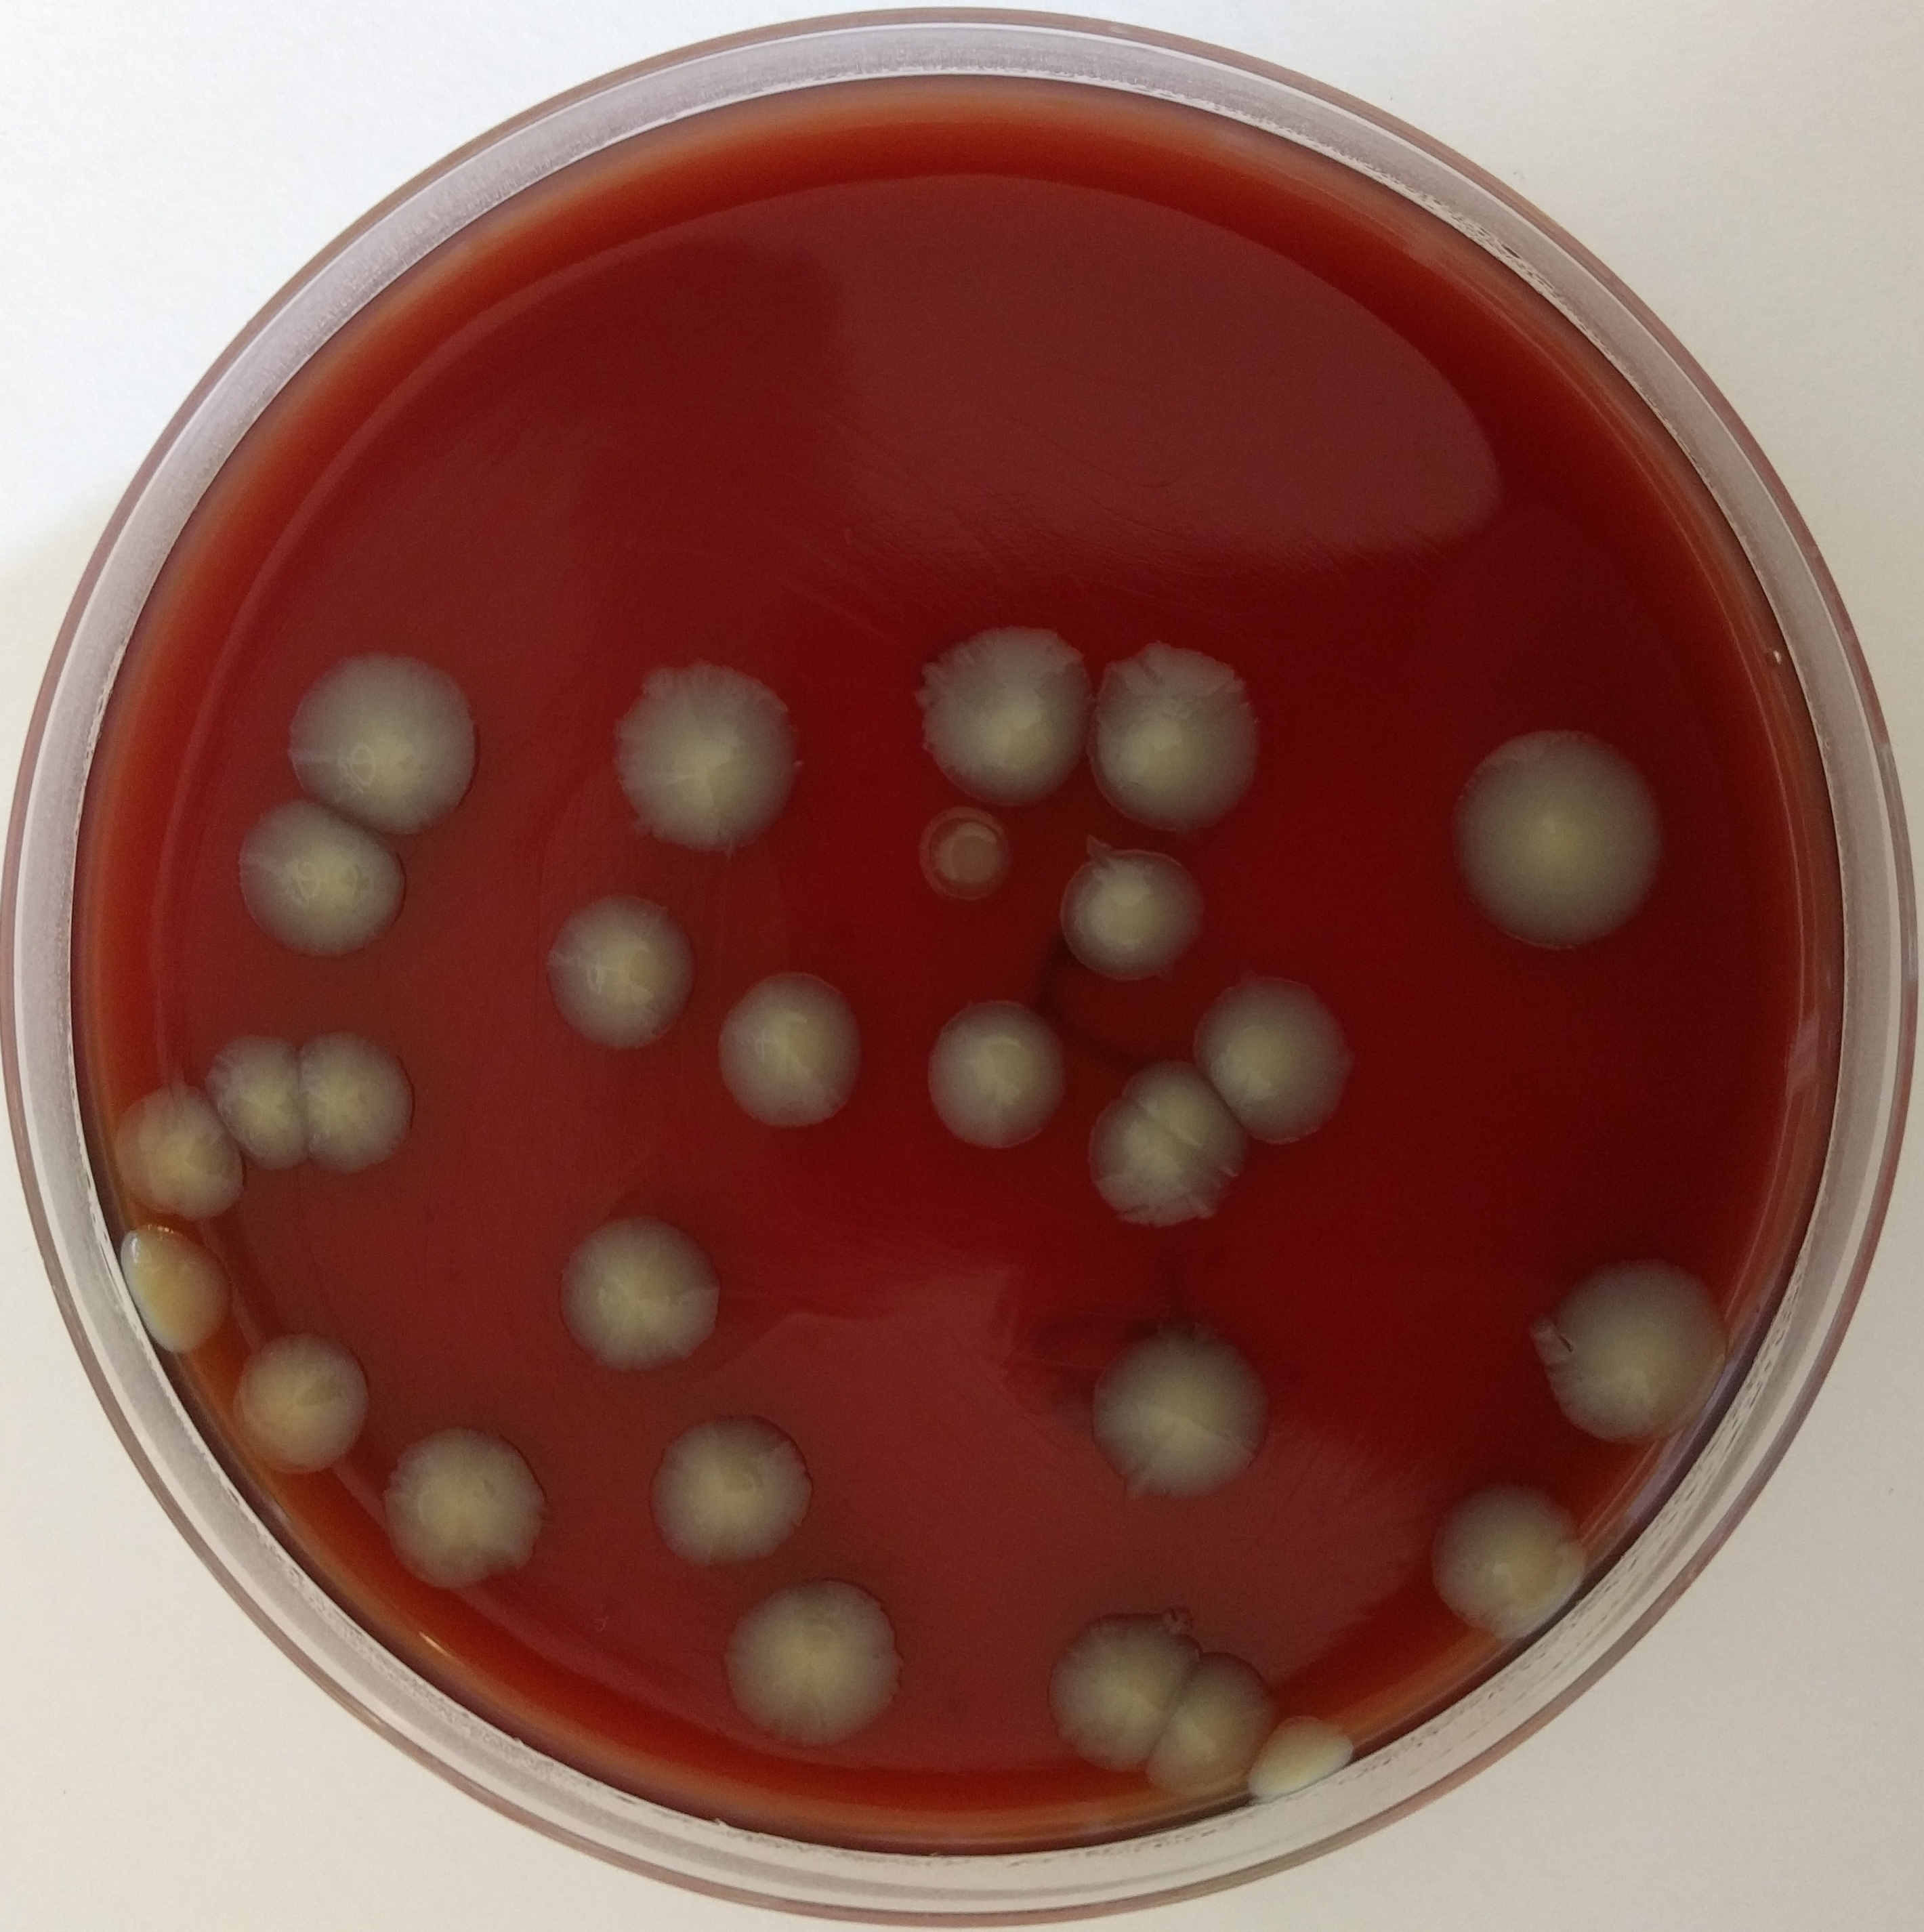sp05: (1454, 704, 1669, 969), (1519, 1224, 1760, 1442), (601, 639, 807, 866), (268, 634, 479, 837), (1077, 1319, 1284, 1506), (722, 1571, 909, 1766), (1089, 638, 1269, 840), (382, 1416, 559, 1599), (914, 620, 1087, 805), (559, 1199, 729, 1377), (1420, 1472, 1593, 1645), (1048, 1594, 1198, 1791), (536, 886, 708, 1057), (640, 1402, 816, 1567), (229, 791, 403, 956), (1195, 969, 1355, 1148), (715, 956, 869, 1134), (927, 979, 1073, 1155), (1138, 1636, 1284, 1795), (227, 1324, 375, 1478), (1062, 840, 1210, 984), (102, 1073, 245, 1217), (1087, 1094, 1237, 1228), (300, 1020, 419, 1180), (107, 1217, 238, 1351), (208, 1023, 308, 1178), (1119, 1051, 1251, 1162), (1249, 1710, 1357, 1810), (914, 807, 1020, 905)
